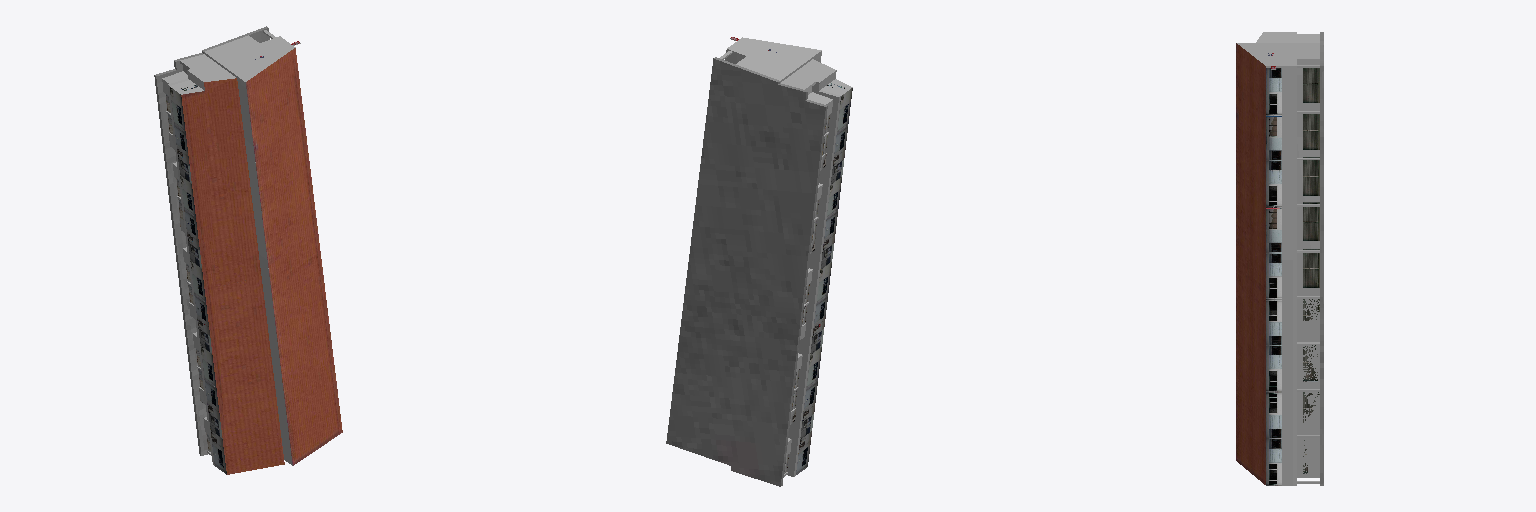
3 renders of one model, left to right at view 1: azimuth 30°, elevation 25°; view 2: azimuth 150°, elevation 25°; view 3: azimuth 270°, elevation 25°, orthographic.
Visible parts, largest first — view 1: polygon.851; view 2: polygon.851; view 3: polygon.851.
Part boxes in pixels (bbox=[...]): polygon.851: bbox=[154, 26, 342, 474]; polygon.851: bbox=[666, 37, 852, 486]; polygon.851: bbox=[1236, 32, 1323, 485].
Bounding box in the file's own units: 22.75 × 56.24 × 10.82.
1 materials, 1 textured.